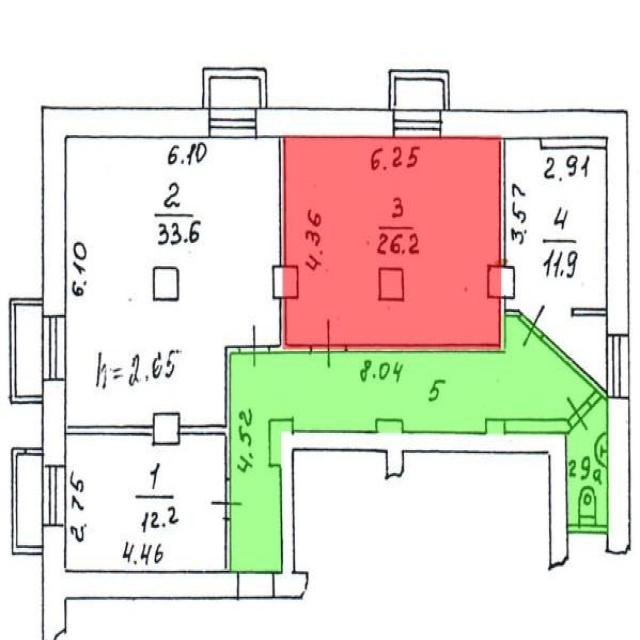Bathrooms: (567, 399, 608, 525)
Corridors: (232, 316, 593, 570), (17, 457, 43, 545), (16, 307, 41, 395), (211, 78, 260, 105), (396, 81, 445, 107)
Doors: (311, 317, 346, 368), (516, 303, 547, 350), (239, 324, 270, 370), (210, 479, 242, 520), (238, 570, 274, 600), (566, 395, 592, 433)
LBwalls: (268, 417, 570, 601), (443, 110, 629, 333), (41, 107, 208, 316), (42, 526, 238, 640), (258, 109, 392, 138), (607, 398, 630, 556), (43, 382, 66, 467), (153, 266, 180, 303), (488, 263, 515, 298), (272, 265, 299, 299), (378, 266, 405, 300), (154, 413, 180, 448)
Offices: (67, 138, 279, 425), (287, 139, 500, 344), (505, 139, 605, 391), (67, 436, 225, 568), (393, 108, 442, 137)
Walls: (345, 297, 522, 353), (180, 345, 240, 480), (540, 333, 607, 406), (9, 297, 43, 404), (10, 447, 43, 556), (203, 67, 268, 108), (389, 68, 450, 110), (268, 299, 311, 354), (279, 138, 286, 266), (499, 138, 506, 264), (67, 425, 153, 435), (506, 421, 571, 432), (569, 524, 607, 533), (571, 308, 606, 316), (226, 519, 230, 572)
Windows: (41, 316, 66, 381), (606, 334, 630, 400), (42, 465, 67, 527), (208, 107, 257, 138), (393, 108, 442, 137)
